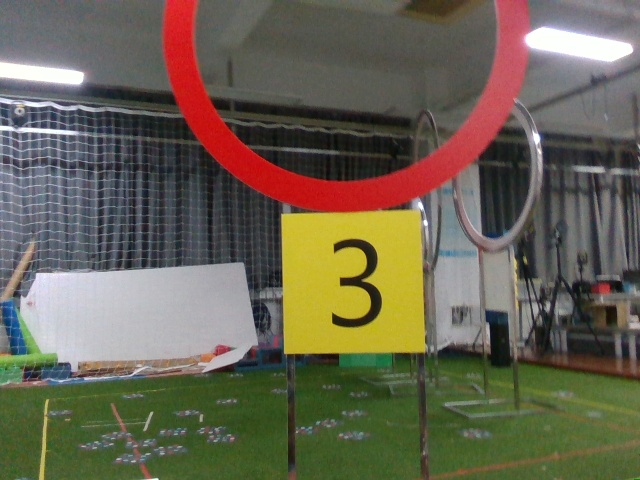target: (289, 217, 423, 351)
